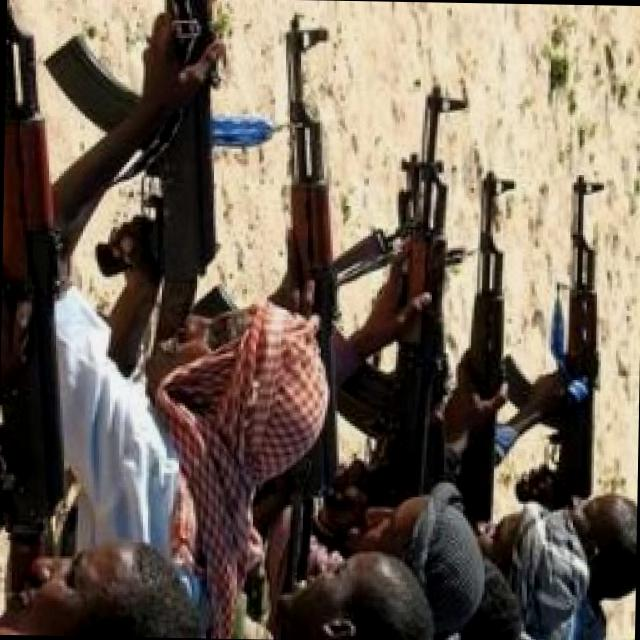long weapon: (53, 0, 252, 319), (259, 0, 378, 445), (368, 72, 469, 499), (444, 142, 530, 490), (528, 172, 624, 458)
